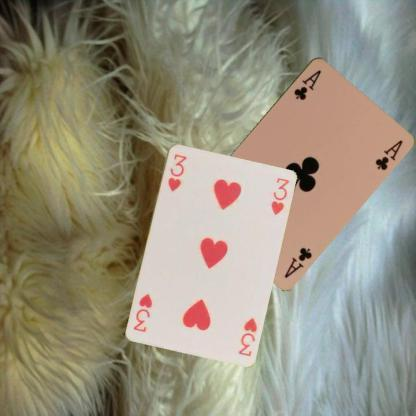3h: (164, 150, 188, 192), (236, 315, 258, 357)
Ac: (290, 66, 322, 102), (282, 245, 314, 278)
